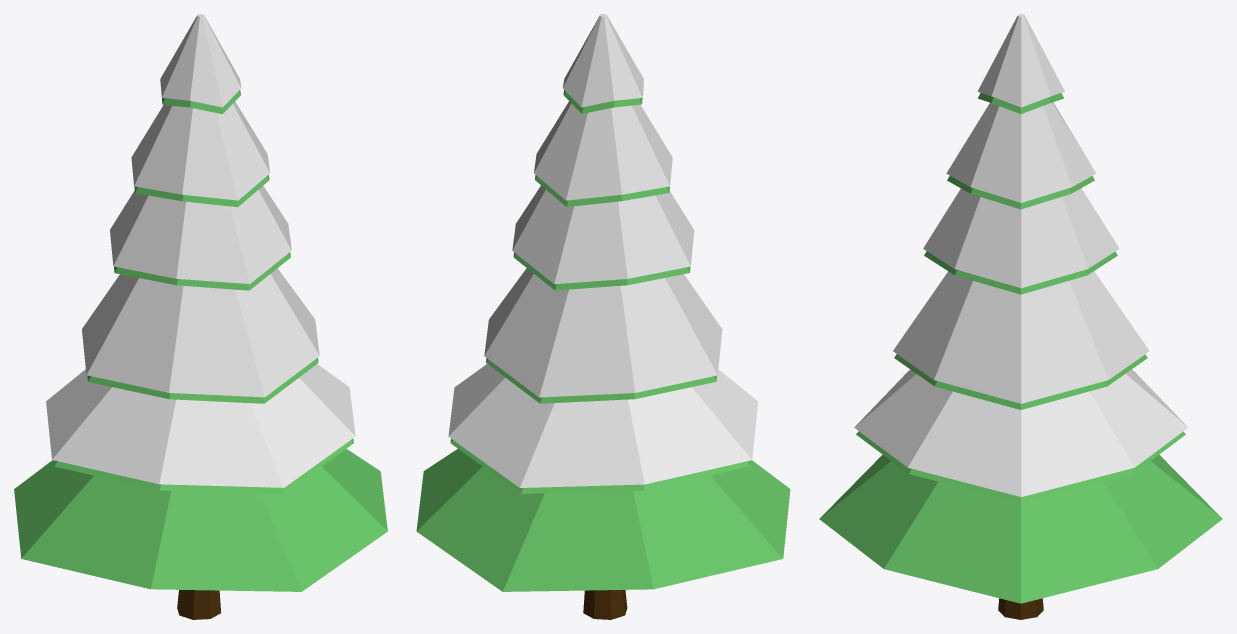
File: Pine_Tree_Snow.fbx
3 views of the same model, side by side, from view 1: azimuth 30°, elevation 25°; view 2: azimuth 150°, elevation 25°; view 3: azimuth 270°, elevation 25° (orthographic).
Parts seen in each view (by area): view 1: Pine_tree_Snow:Pinetree_snow; view 2: Pine_tree_Snow:Pinetree_snow; view 3: Pine_tree_Snow:Pinetree_snow.
Part boxes in pixels (x1=…): Pine_tree_Snow:Pinetree_snow: x1=14, y1=14, x2=387, y2=619; Pine_tree_Snow:Pinetree_snow: x1=416, y1=14, x2=790, y2=619; Pine_tree_Snow:Pinetree_snow: x1=819, y1=14, x2=1222, y2=619.
Size of the model in its own units: 6.25 by 9.88 by 6.07.
